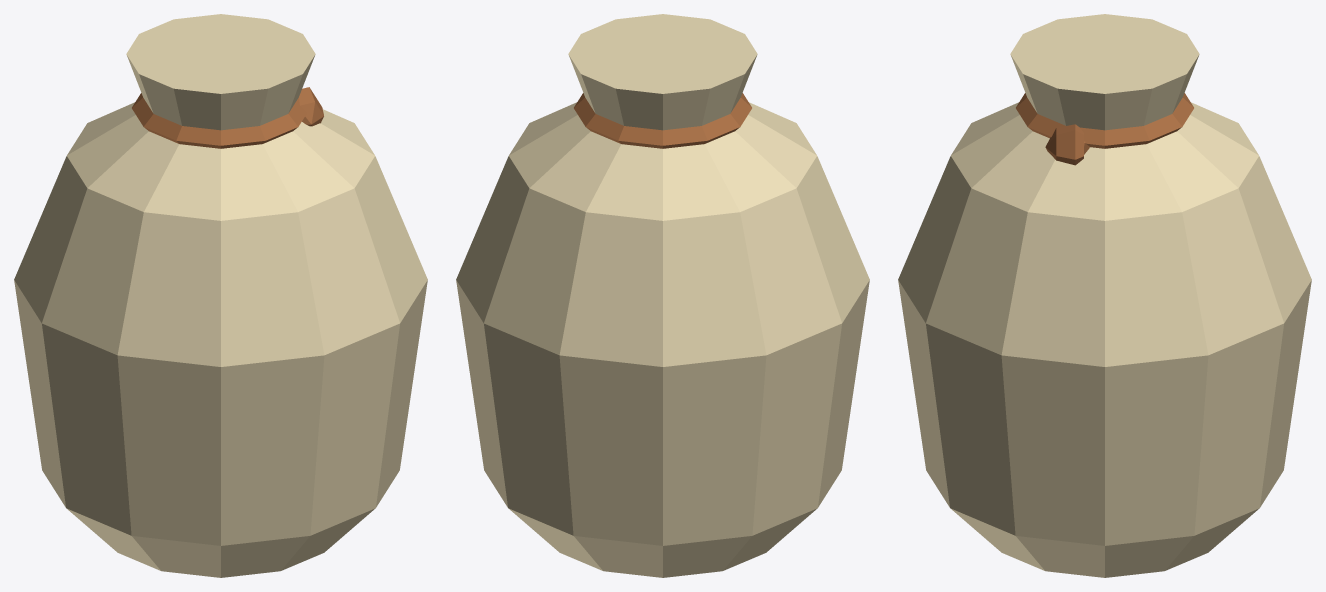
Rendered from 11_Supply_Sack.glb.
3 views of the same model, side by side, from view 1: azimuth 30°, elevation 25°; view 2: azimuth 150°, elevation 25°; view 3: azimuth 270°, elevation 25° (orthographic).
Parts seen in each view (by area): view 1: 11_Supply_Sack__Body; view 2: 11_Supply_Sack__Body; view 3: 11_Supply_Sack__Body.
Part boxes in pixels (<box>): 11_Supply_Sack__Body: <box>14,14,427,577</box>; 11_Supply_Sack__Body: <box>456,14,869,577</box>; 11_Supply_Sack__Body: <box>898,14,1311,577</box>.
Size of the model in its own units: 1.18 by 1.49 by 1.18.
Materials: 1 (1 with a texture image).
